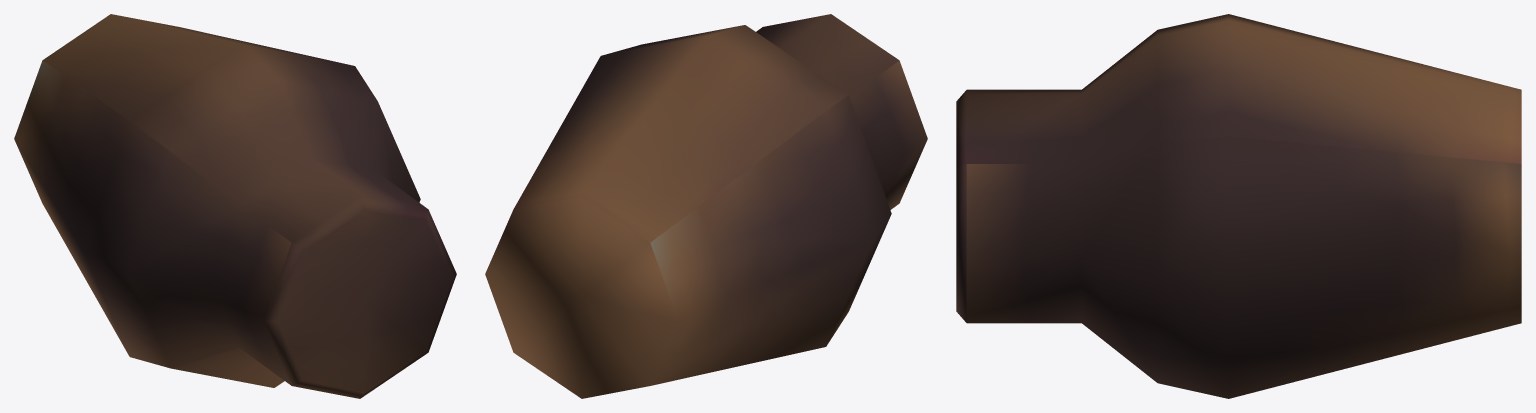
The model's file is CandyBottle.obj.
The picture shows the model from 3 angles, left to right: view 1: azimuth 30°, elevation 25°; view 2: azimuth 150°, elevation 25°; view 3: azimuth 270°, elevation 25°; orthographic projection. The views are drawn at different scales.
Parts seen in each view (by area): view 1: polySurface146.066; view 2: polySurface146.066; view 3: polySurface146.066.
Part boxes in pixels (<box>): polySurface146.066: <box>14,14,456,398</box>; polySurface146.066: <box>485,14,927,398</box>; polySurface146.066: <box>956,14,1521,398</box>.
Size of the model in its own units: 0.6229 by 0.6229 by 0.8592.
Materials: 1 (1 with a texture image).
